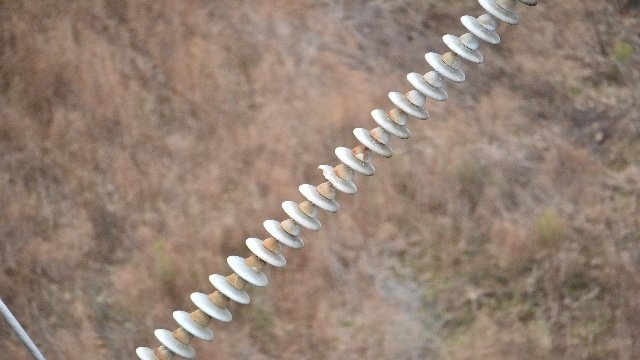broken_local: (314, 165, 335, 189)
insulator_unspecified: (134, 0, 526, 359)
